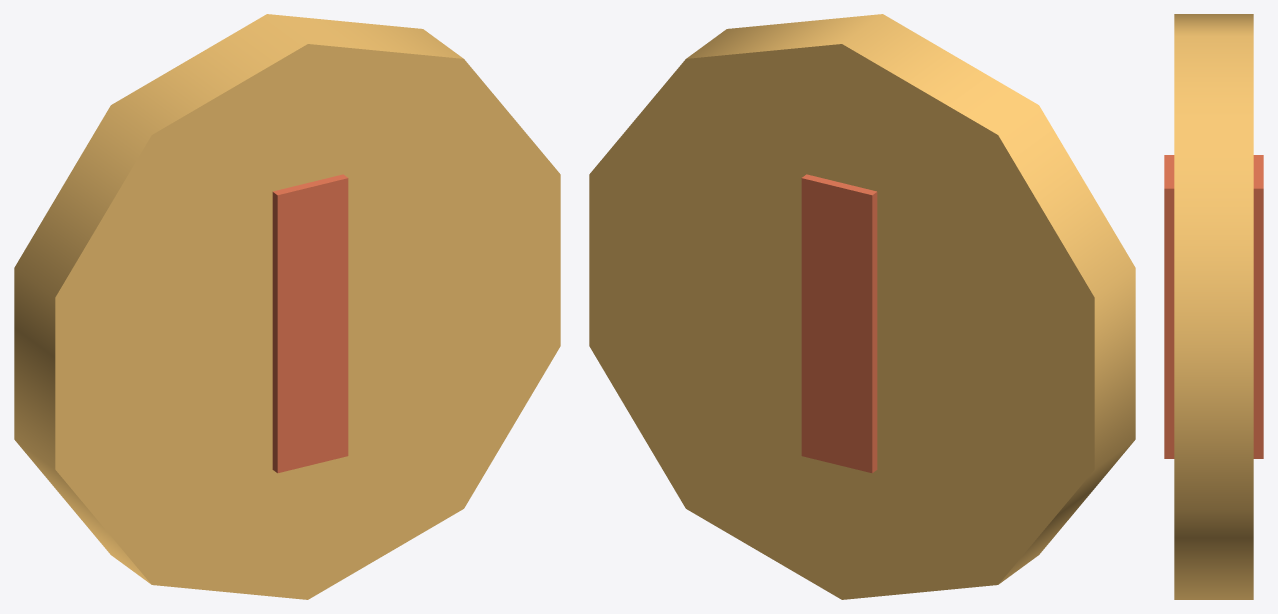
Rendered from coin.glb.
3 renders of one model, left to right at view 1: azimuth 30°, elevation 25°; view 2: azimuth 150°, elevation 25°; view 3: azimuth 270°, elevation 25°, orthographic. The views are drawn at different scales.
Visible parts, largest first — view 1: Coin_Face, Coin_Mark; view 2: Coin_Face, Coin_Mark; view 3: Coin_Face, Coin_Mark.
Boxes of the visible parts, x1=… form: Coin_Face: x1=14, y1=14, x2=560, y2=599; Coin_Mark: x1=272, y1=174, x2=348, y2=473; Coin_Face: x1=589, y1=14, x2=1135, y2=599; Coin_Mark: x1=801, y1=174, x2=877, y2=473; Coin_Face: x1=1174, y1=14, x2=1253, y2=599; Coin_Mark: x1=1164, y1=155, x2=1263, y2=458.
Bounding box in the file's own units: 0.5706 × 0.6 × 0.1.
